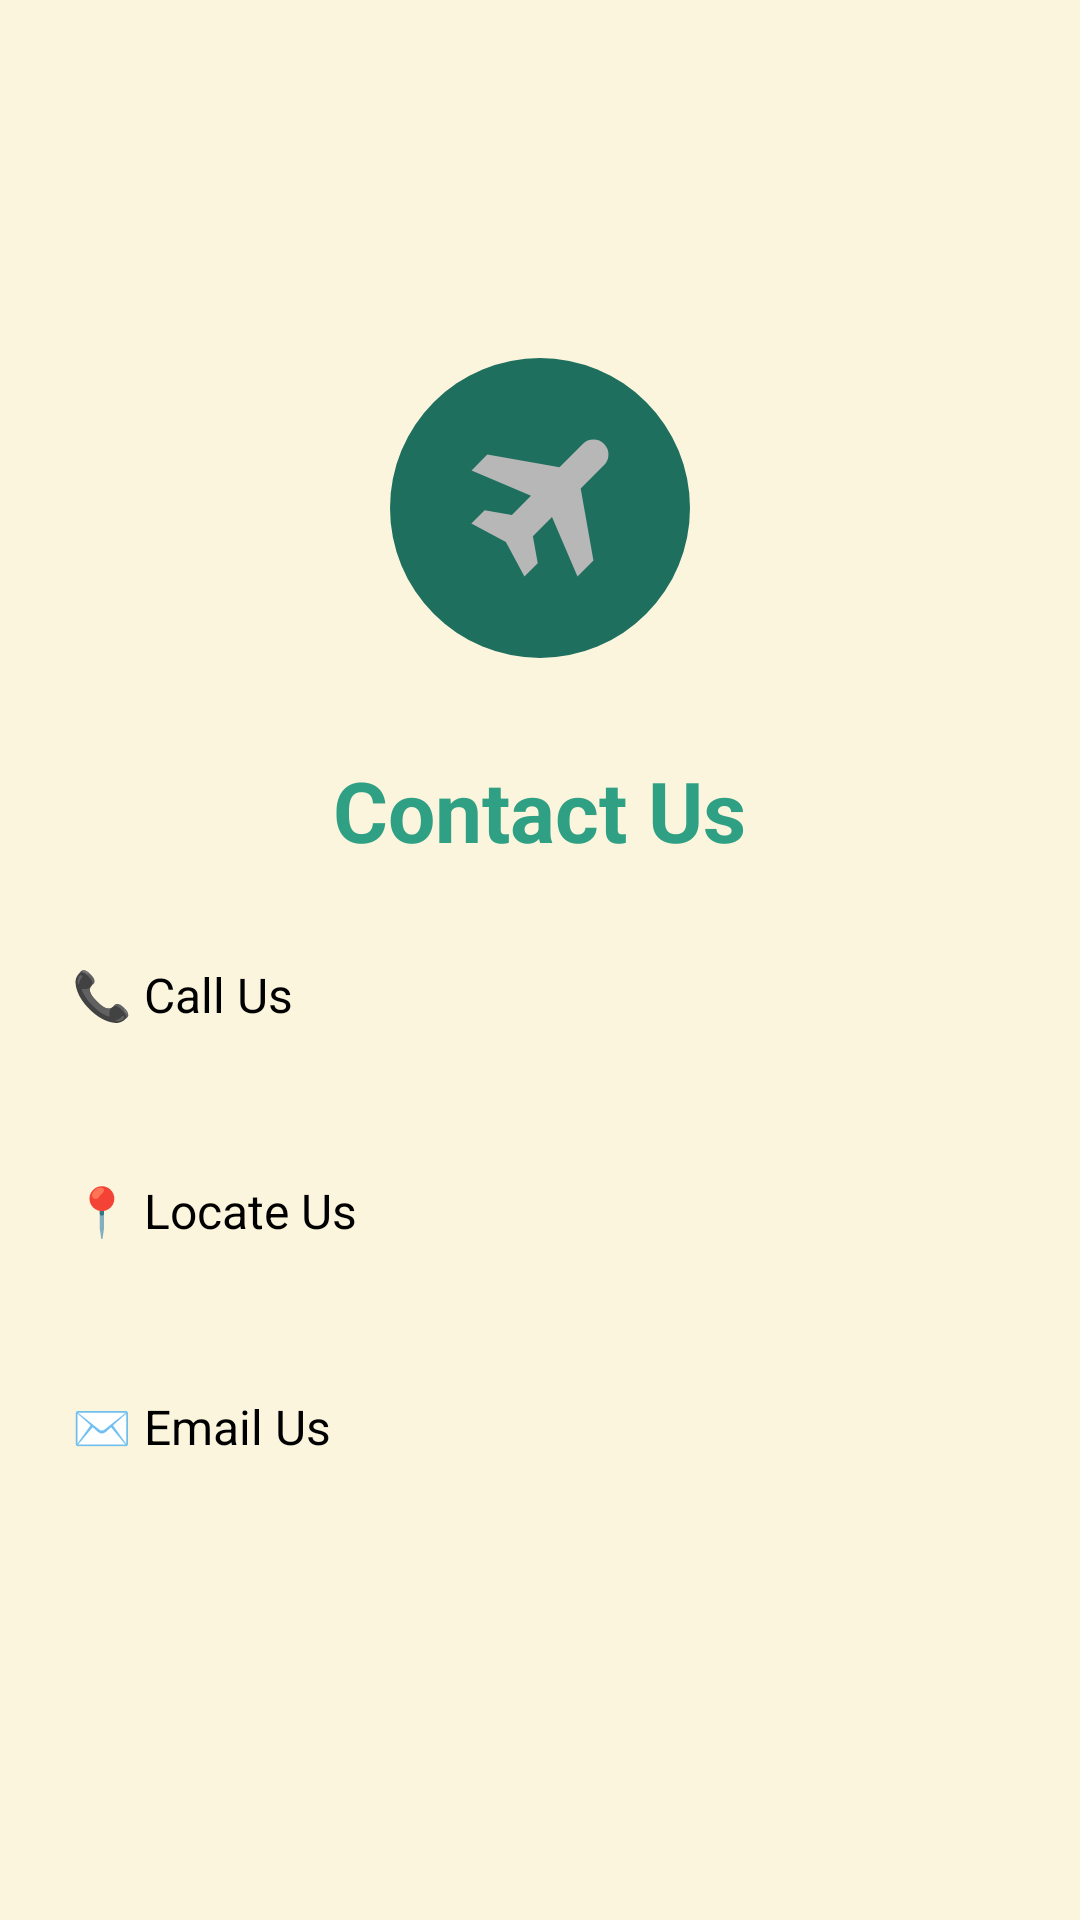

Icon bounding boxes for this 1080px×1920px phone screenshot, format (x1, y1, x2, y2):
plane: (390, 358, 690, 658)
